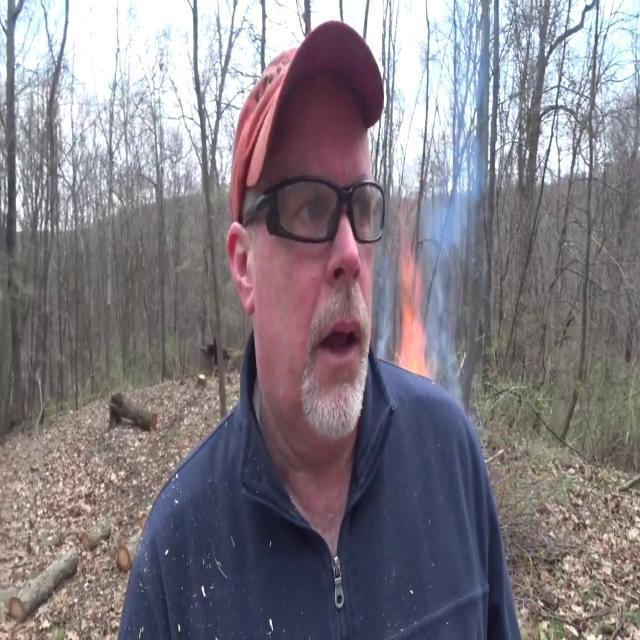Fire: (393, 274, 433, 378)
Smoke: (368, 148, 478, 377)
